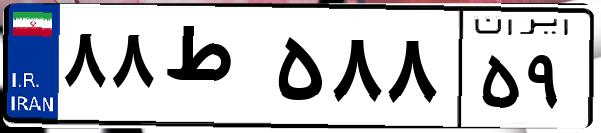5: (270, 28, 330, 110), (475, 38, 525, 113)
8: (385, 28, 445, 110), (330, 28, 385, 110), (57, 26, 110, 100), (110, 28, 158, 98)
9: (525, 38, 570, 115)
ط: (158, 20, 270, 120)
